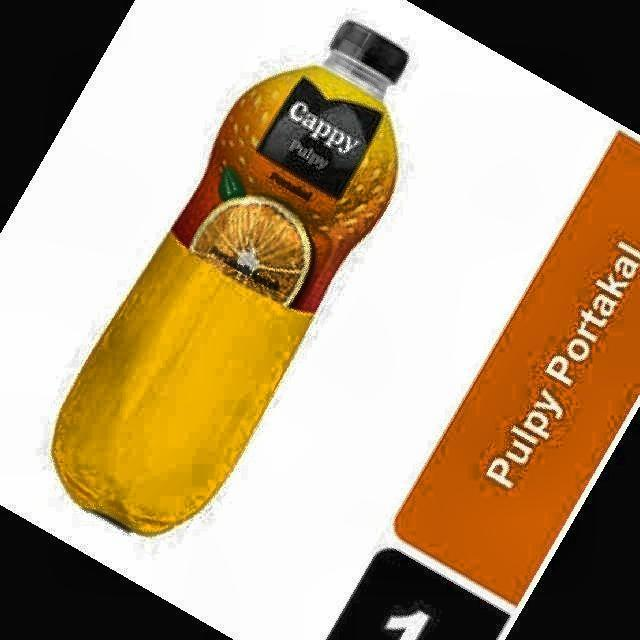plastic: (52, 21, 408, 533)
